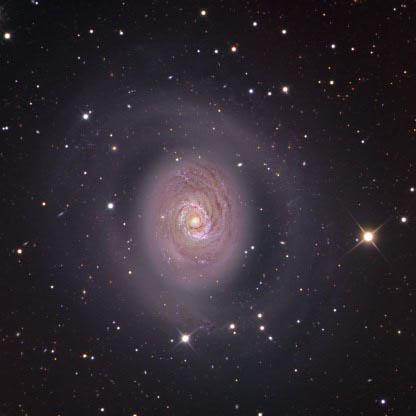Messier 94: (52, 75, 344, 370)
